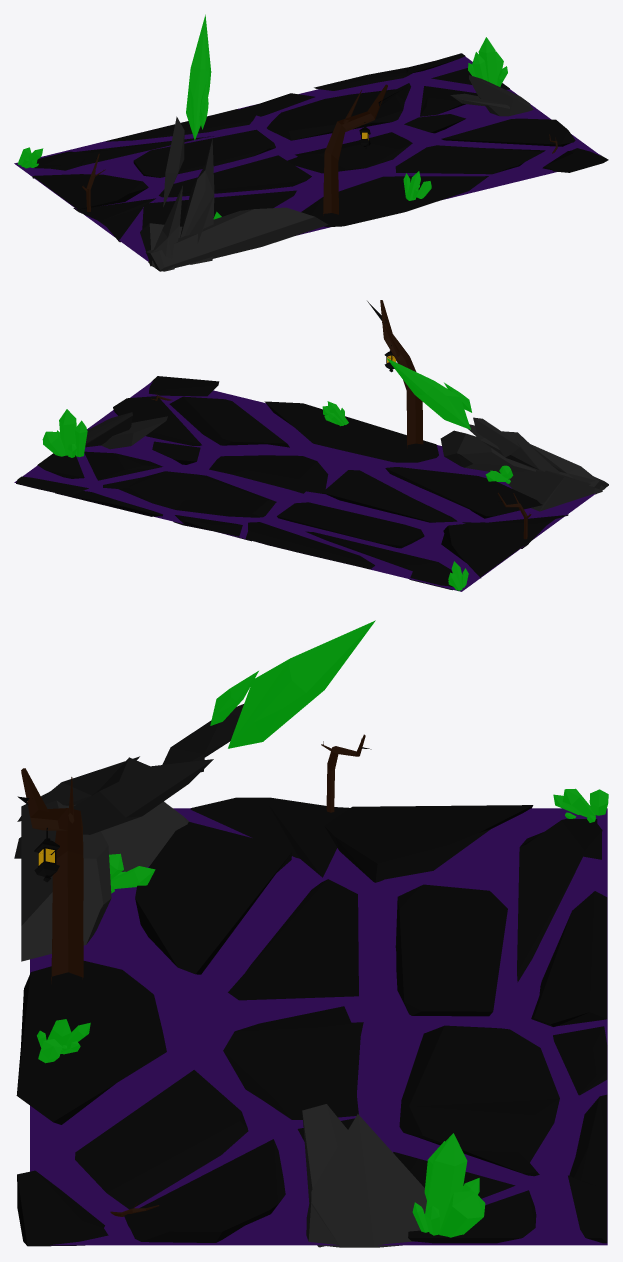
The model's file is terrain-void.glb.
3 views of the same model, one above another, from view 1: azimuth 30°, elevation 25°; view 2: azimuth 150°, elevation 25°; view 3: azimuth 270°, elevation 25° (orthographic). The views are drawn at different scales.
Visible parts, largest first — view 1: void-terrain; view 2: void-terrain; view 3: void-terrain.
Boxes of the visible parts, x1,y1,x2,y2 form: void-terrain: [14, 14, 608, 271]; void-terrain: [14, 300, 608, 591]; void-terrain: [14, 620, 608, 1247].
Size of the model in its own units: 14.07 by 4.75 by 7.92.
Materials: 4 (4 with a texture image).
